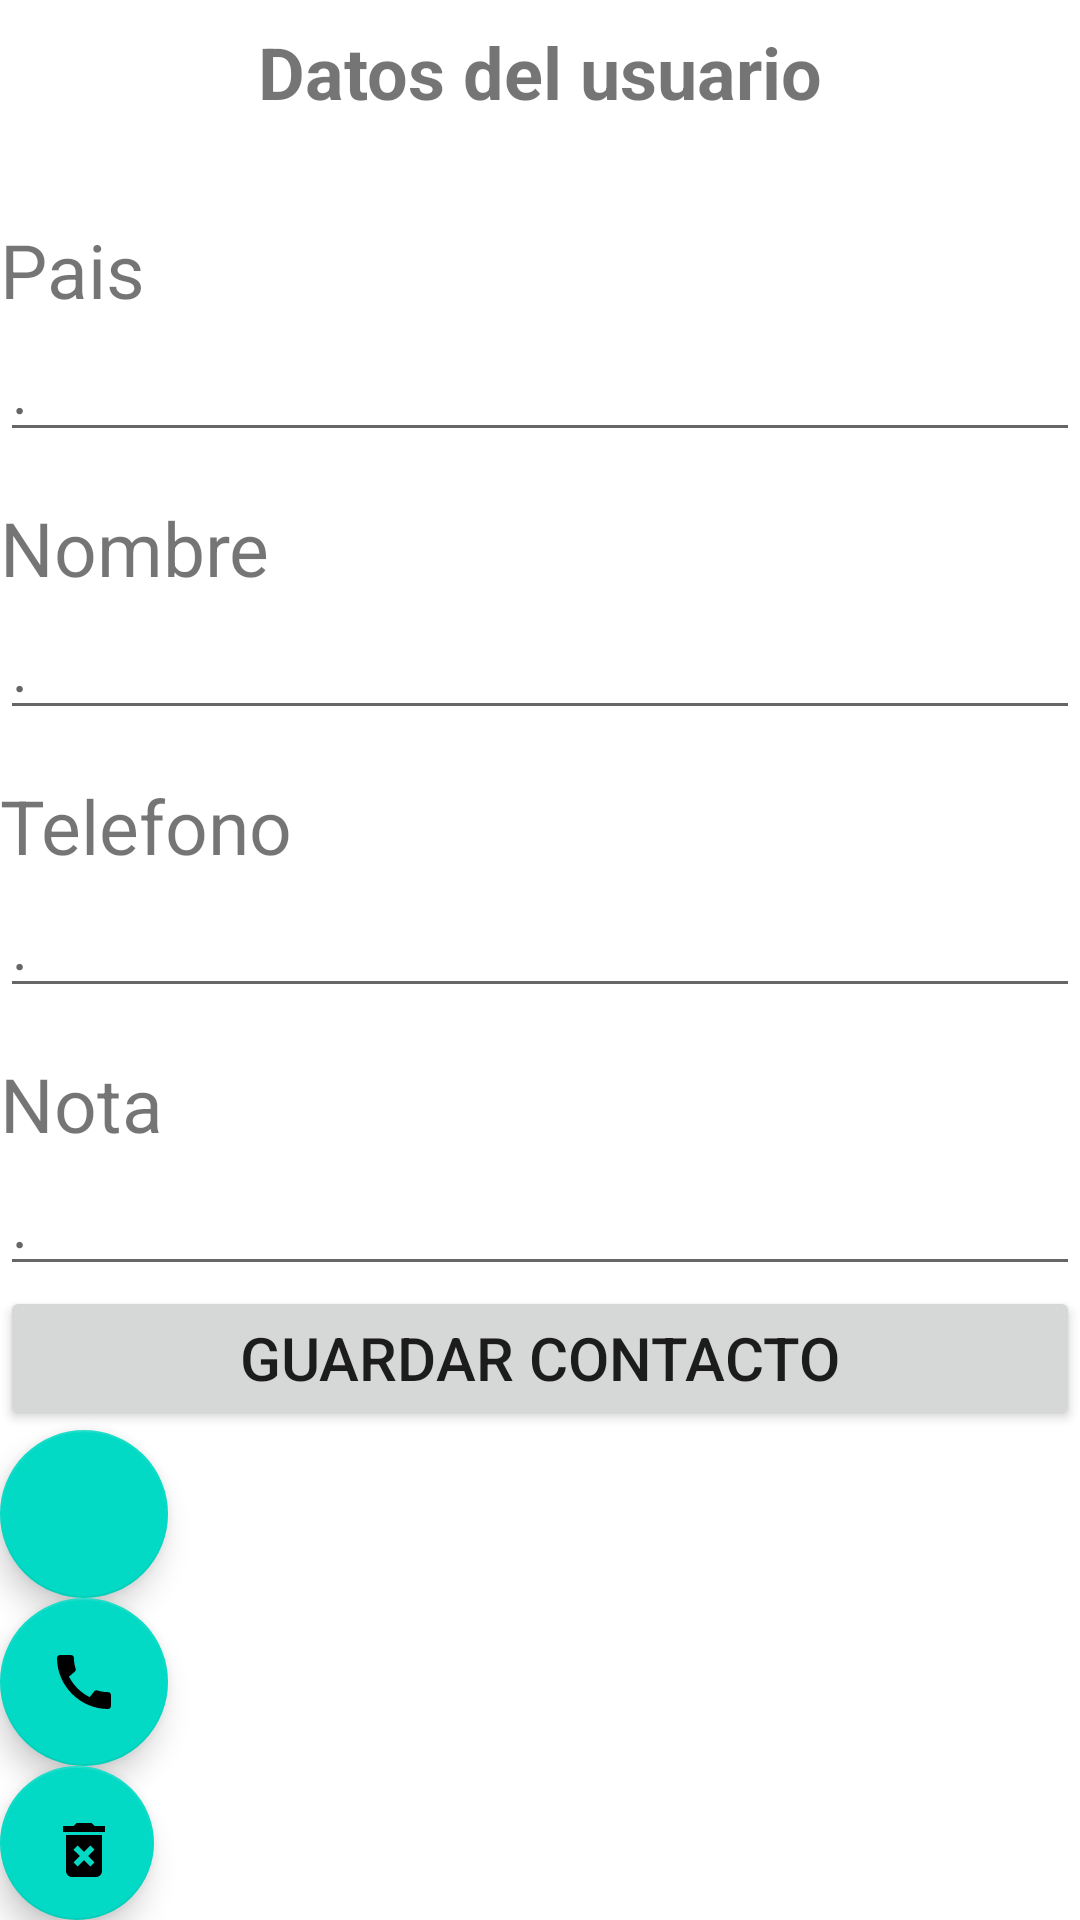

Icon click points for this 1080px x 1920px phone screenshot, format [x,y]:
call: [84,1682]
delete: [77,1843]
